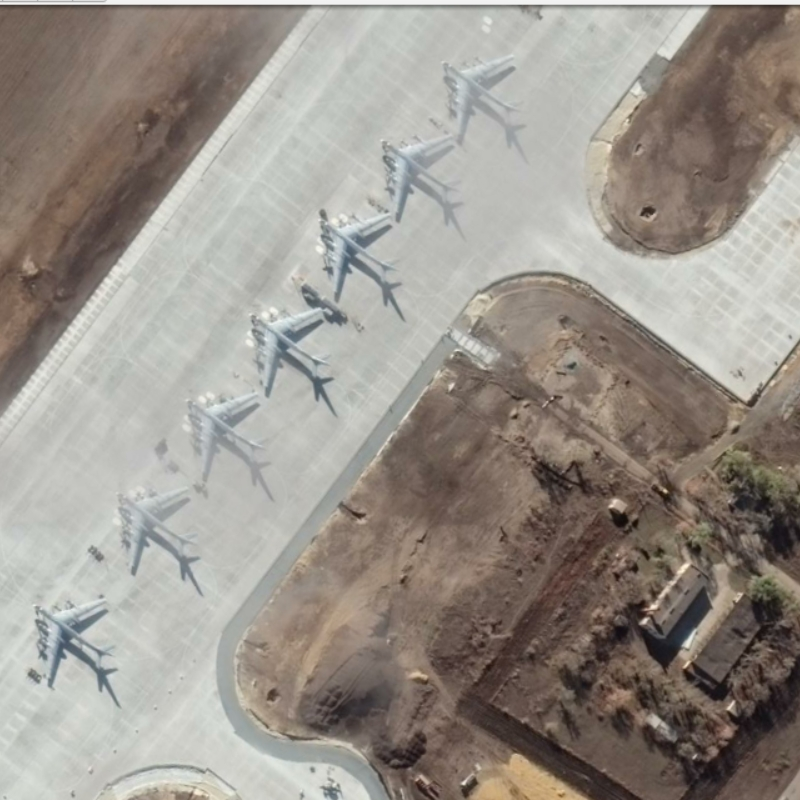A17: (435, 50, 527, 144), (182, 390, 276, 481), (111, 485, 204, 573), (29, 595, 120, 681), (246, 304, 336, 390), (378, 133, 467, 219), (313, 212, 405, 295)
